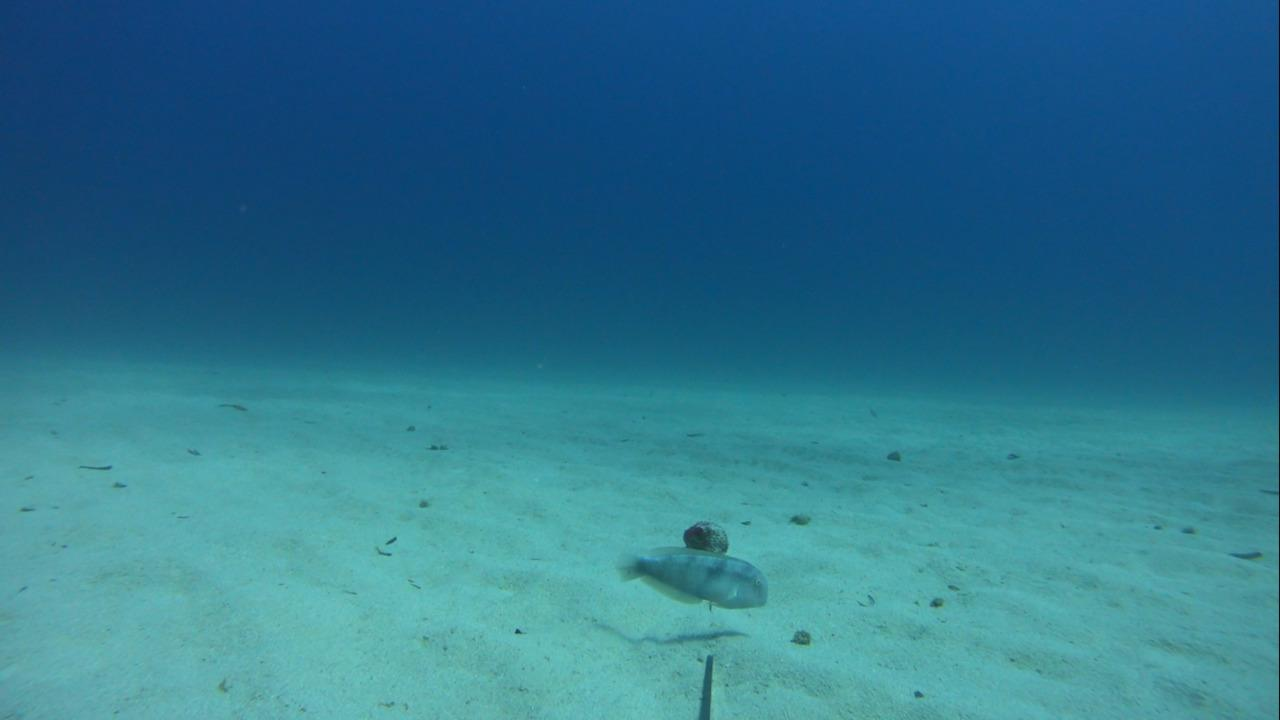raor: (615, 542, 771, 612)
